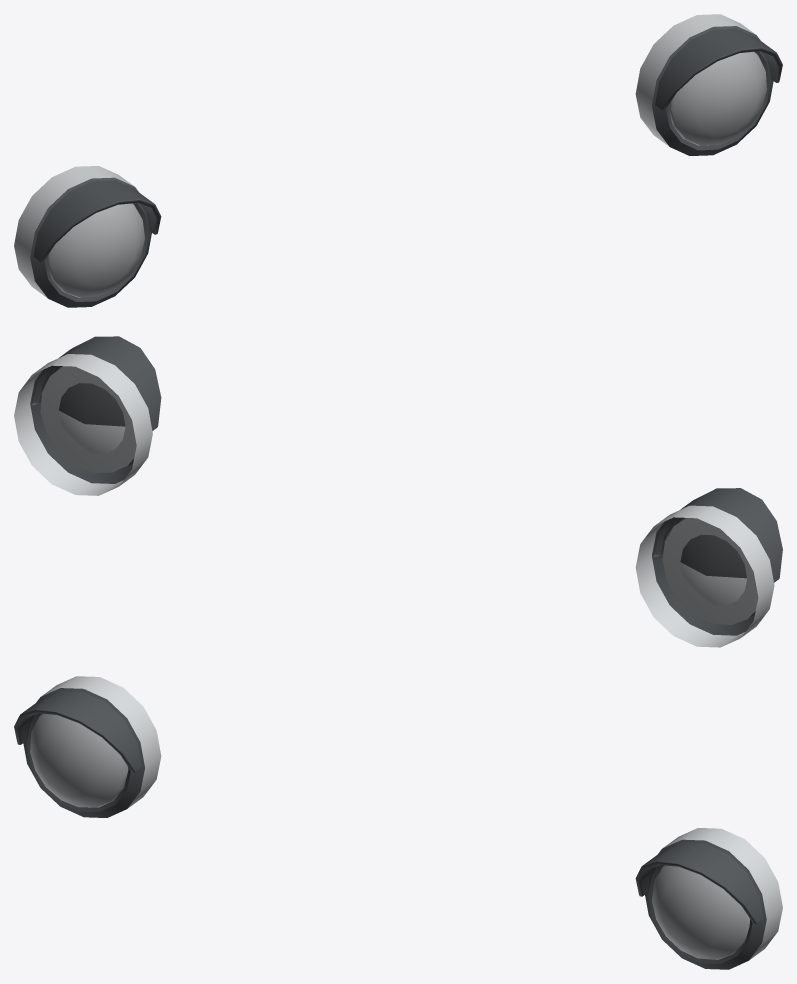
Rendered from Car_03_Headlight_Cool.fbx.
The picture shows the model from 3 angles, top to bottom: view 1: azimuth 30°, elevation 25°; view 2: azimuth 150°, elevation 25°; view 3: azimuth 330°, elevation 25°; orthographic projection.
Visible parts, largest first — view 1: Car_03_Headlight_Cool; view 2: Car_03_Headlight_Cool; view 3: Car_03_Headlight_Cool.
Part boxes in pixels (x1,y1,x2,y2): Car_03_Headlight_Cool: [14, 14, 782, 307]; Car_03_Headlight_Cool: [14, 336, 782, 647]; Car_03_Headlight_Cool: [14, 676, 782, 969].
Size of the model in its own units: 179 by 18.49 by 29.57.
